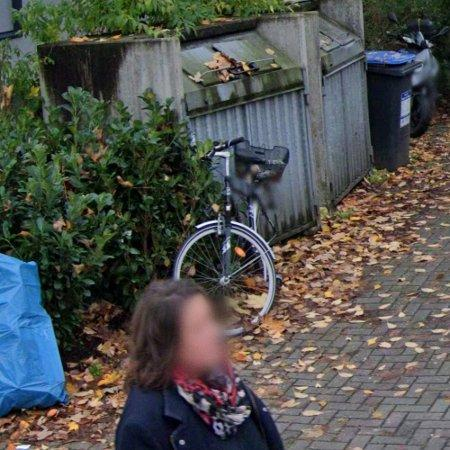bicycles: (173, 138, 289, 337)
